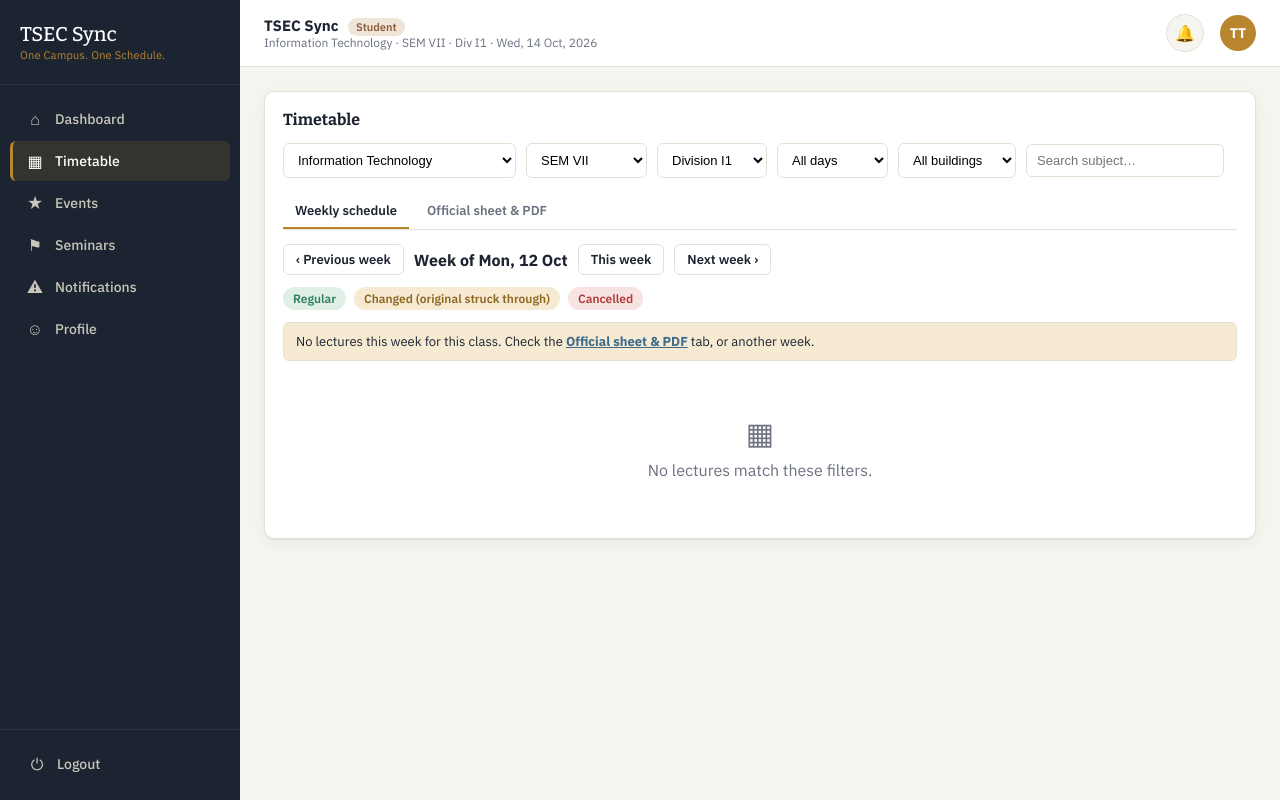
Scenario: Task 1 — one Timetable tab › IT student opens the unified page, switches to the Official sheet tab and gets the published sheet + PDF links
Step 1. Click the tab "Official sheet & PDF" → x=487, y=212, box [415, 194, 559, 229]
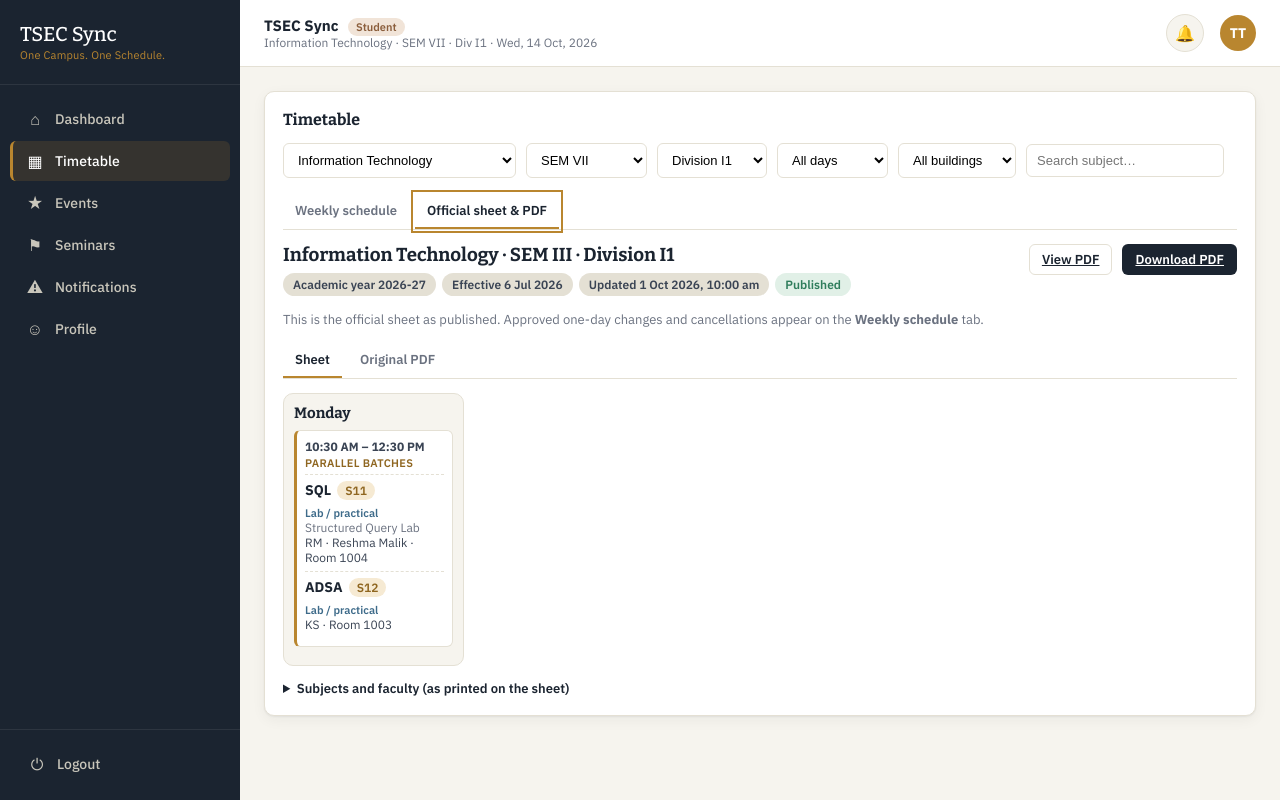
Check: the heading "Information Technology · SEM III · Division I1" is shown, box [283, 244, 674, 266]
Check: the text "Parallel batches" is shown, box [305, 456, 413, 470]
